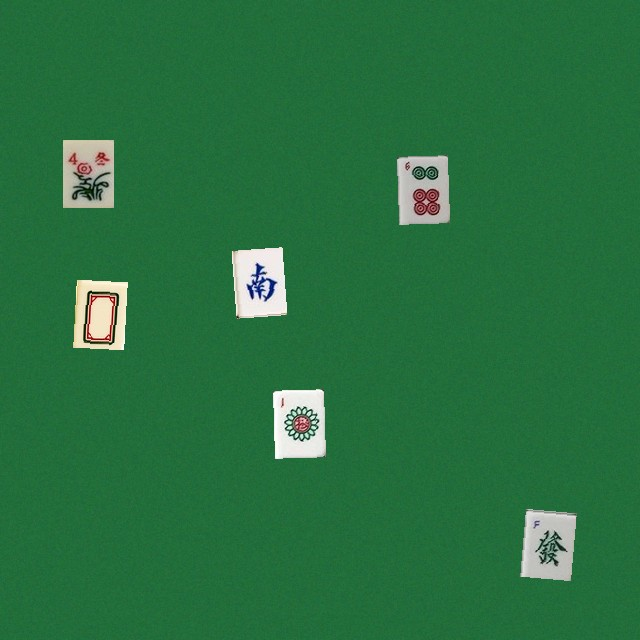tile: (272, 389, 323, 457), (62, 139, 113, 207), (520, 508, 571, 576), (231, 247, 282, 315), (73, 279, 124, 347), (396, 155, 447, 223)
